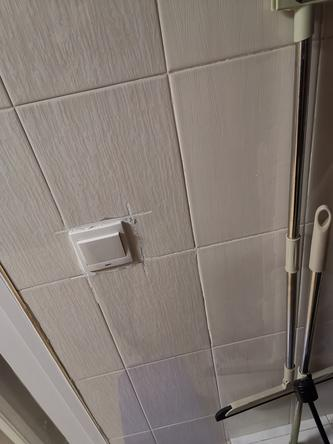switch: (75, 228, 131, 269)
